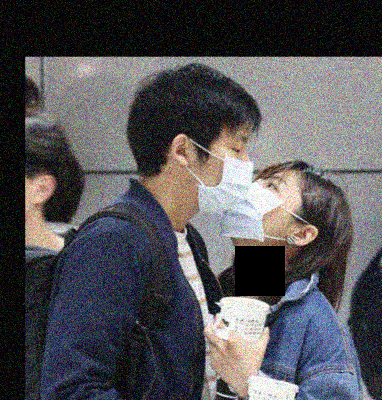with_mask: (217, 172, 301, 239), (189, 133, 255, 208)
